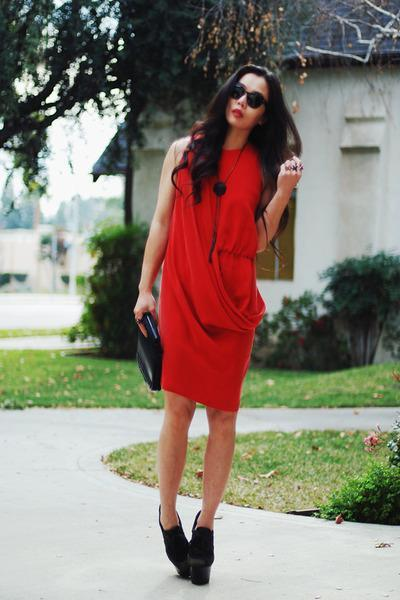bag: (125, 312, 163, 390)
dress: (156, 148, 264, 411)
shoe: (160, 516, 213, 585)
sunglass: (217, 74, 258, 106)
